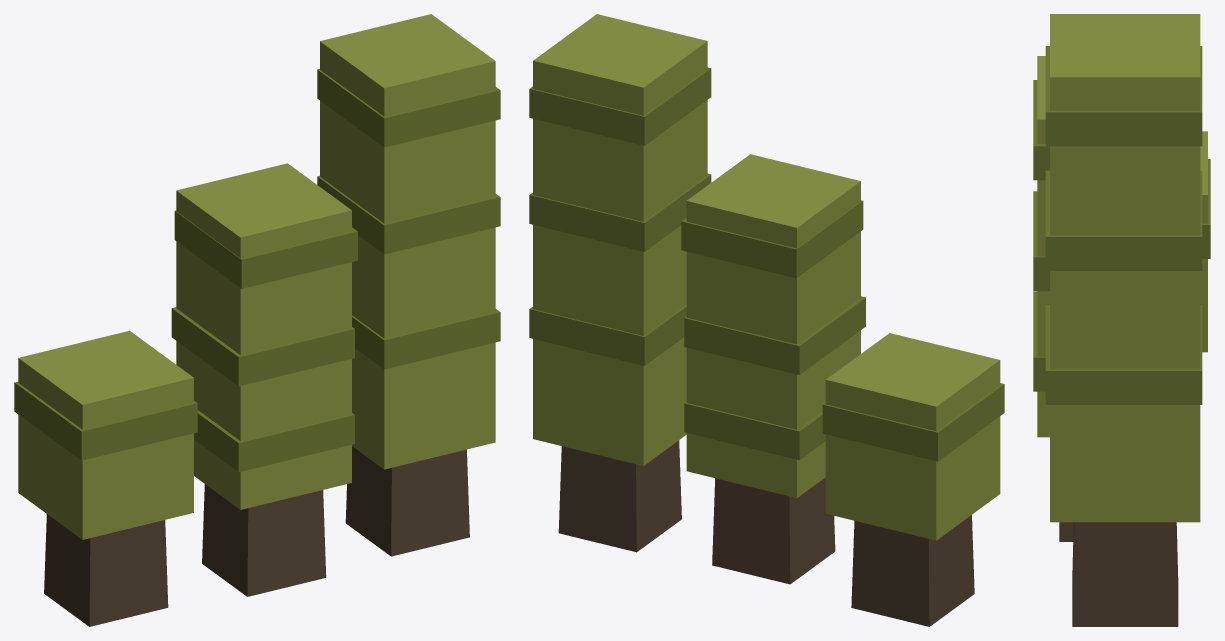
File: block trees.fbx
3 renders of one model, left to right at view 1: azimuth 30°, elevation 25°; view 2: azimuth 150°, elevation 25°; view 3: azimuth 270°, elevation 25°, orthographic. The views are drawn at different scales.
Visible parts, largest first — view 1: Tree3, Tree2, Tree1; view 2: Tree3, Tree2, Tree1; view 3: Tree3, Tree2, Tree1.
Part boxes in pixels (x1=…): Tree3: x1=317, y1=14, x2=500, y2=556; Tree2: x1=171, y1=163, x2=357, y2=596; Tree1: x1=14, y1=330, x2=197, y2=626; Tree3: x1=529, y1=14, x2=711, y2=552; Tree2: x1=681, y1=154, x2=865, y2=584; Tree1: x1=822, y1=333, x2=1004, y2=626; Tree3: x1=1045, y1=14, x2=1202, y2=626; Tree2: x1=1033, y1=56, x2=1073, y2=541; Tree1: x1=1200, y1=131, x2=1210, y2=352.
Size of the model in its own units: 418 by 460 by 132.
